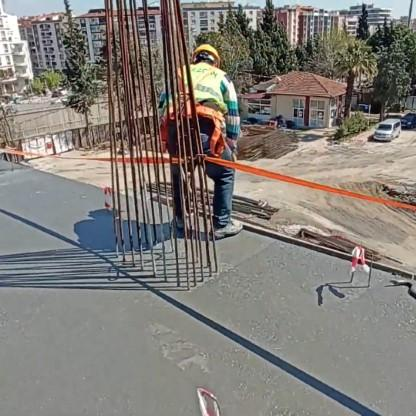helmet: (193, 47, 226, 73)
